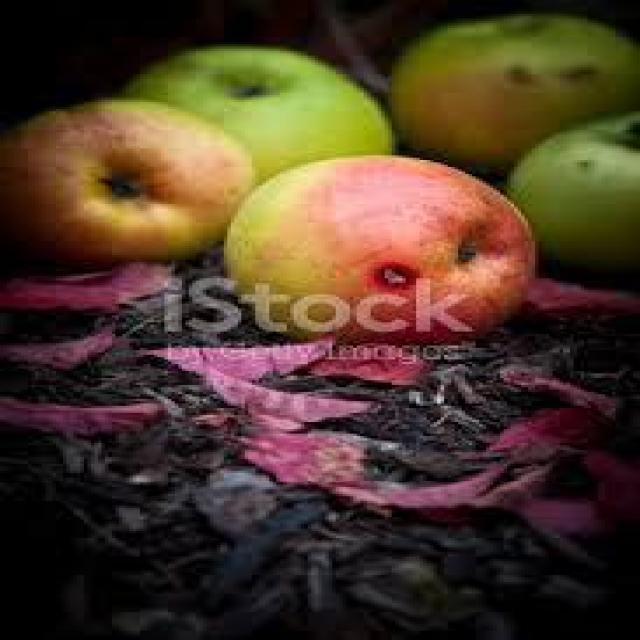Fresh Apple: (3, 100, 237, 250), (138, 38, 392, 157)
Rotten: (232, 155, 536, 357), (402, 10, 633, 153)
